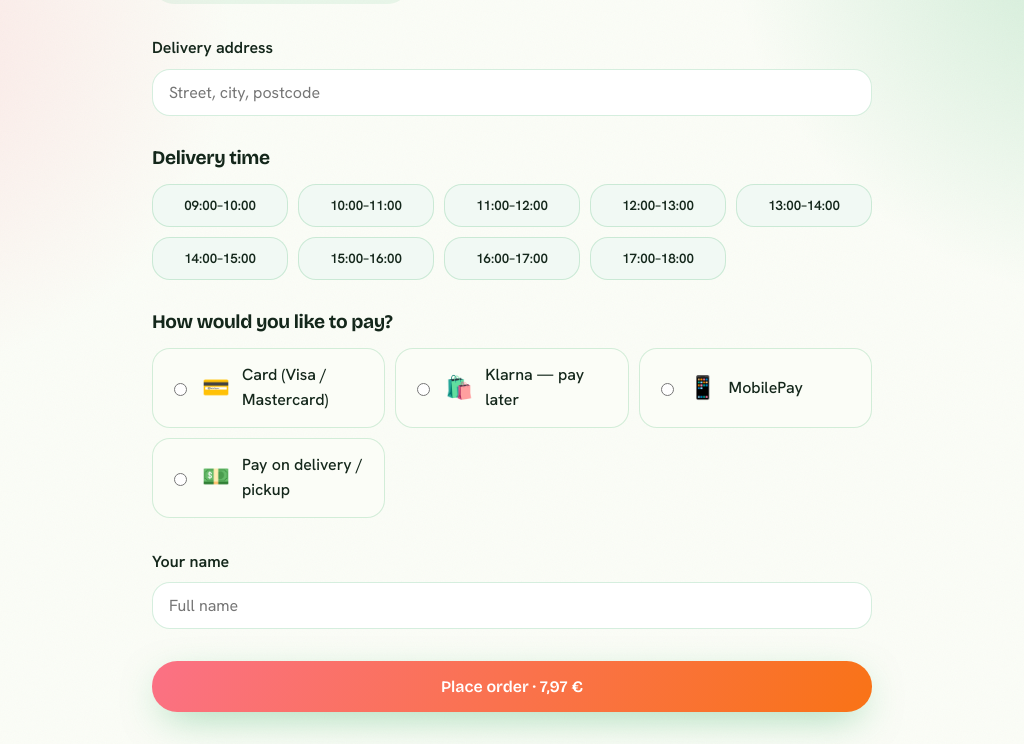
CheckoutForm › offers the client's payment methods and requires a choice
(page scrolled)
Expected: the radio button labelled "💳 Card (Visa / Mastercard)" is shown, [174, 383, 187, 396]
Expected: the radio button labelled "🛍️ Klarna — pay later" is shown, [417, 383, 430, 396]
Click the button "Place order · 7,97 €". click: (512, 687)
box: [152, 661, 872, 712]
(page scrolled)
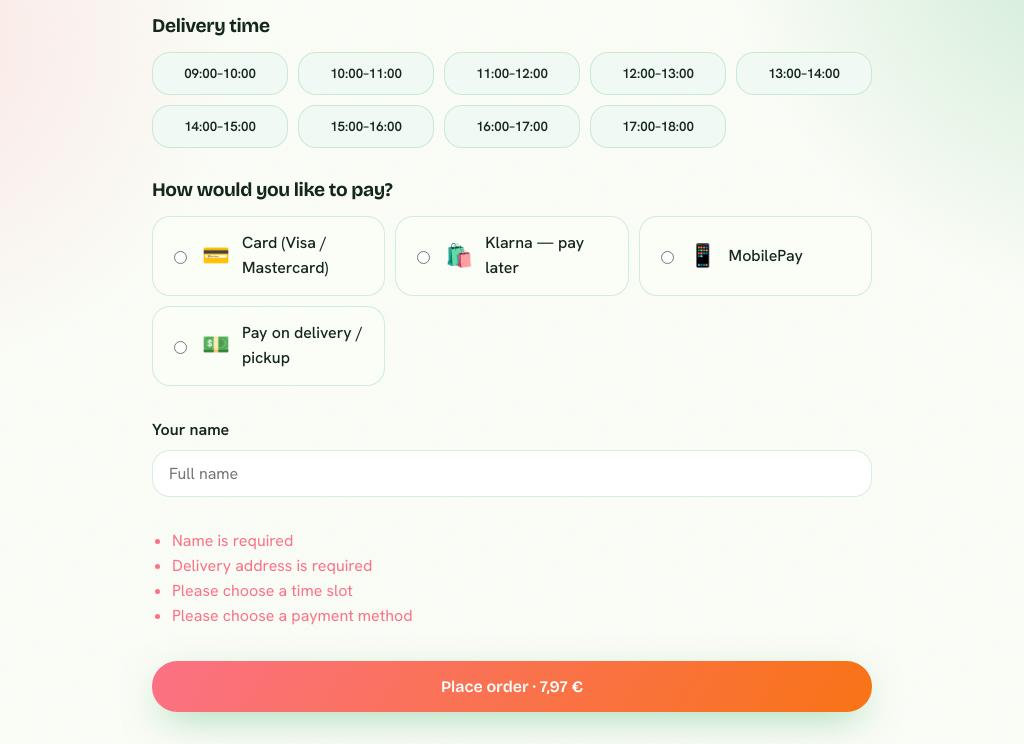
Now the list item "Please choose a payment method" is shown, box [172, 605, 412, 626]
